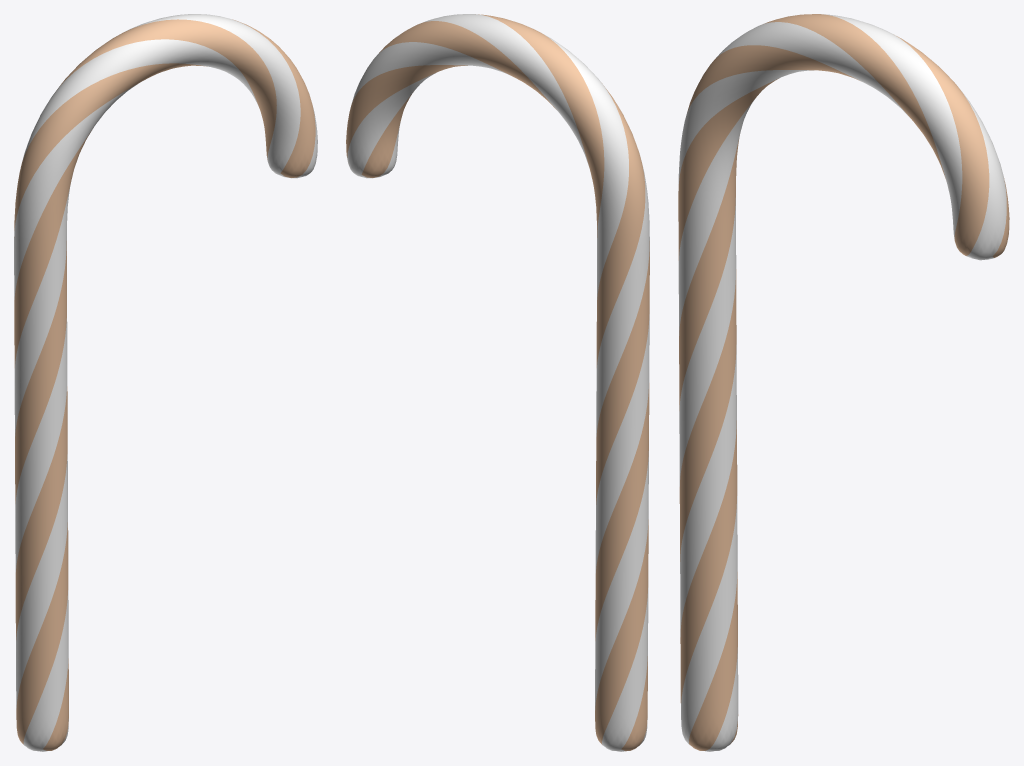
Rendered from orangecandycane.gltf.
The picture shows the model from 3 angles, left to right: view 1: azimuth 30°, elevation 25°; view 2: azimuth 150°, elevation 25°; view 3: azimuth 330°, elevation 25°; orthographic projection. The views are drawn at different scales.
Visible parts, largest first — view 1: Circle.001; view 2: Circle.001; view 3: Circle.001.
Part boxes in pixels (box(x1,y1,x2,y2)): Circle.001: box(14, 14, 317, 751); Circle.001: box(346, 14, 649, 751); Circle.001: box(678, 14, 1009, 751).
Size of the model in its own units: 2.34 by 5.25 by 0.3596.
